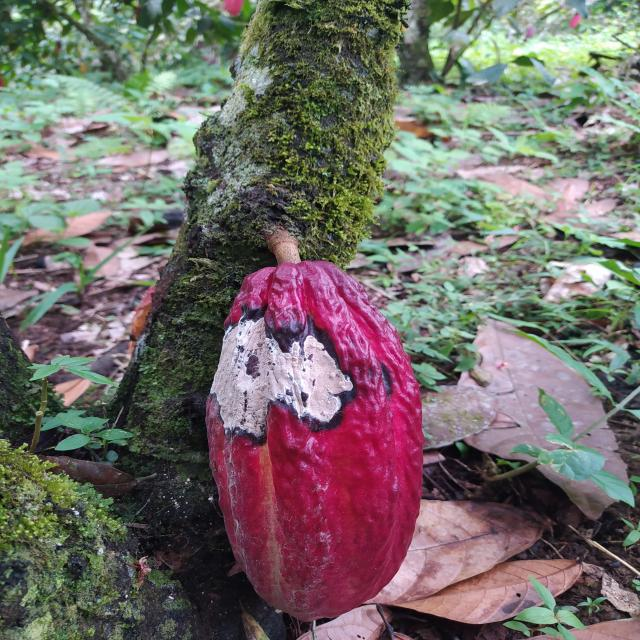Sana: (203, 261, 428, 624)
